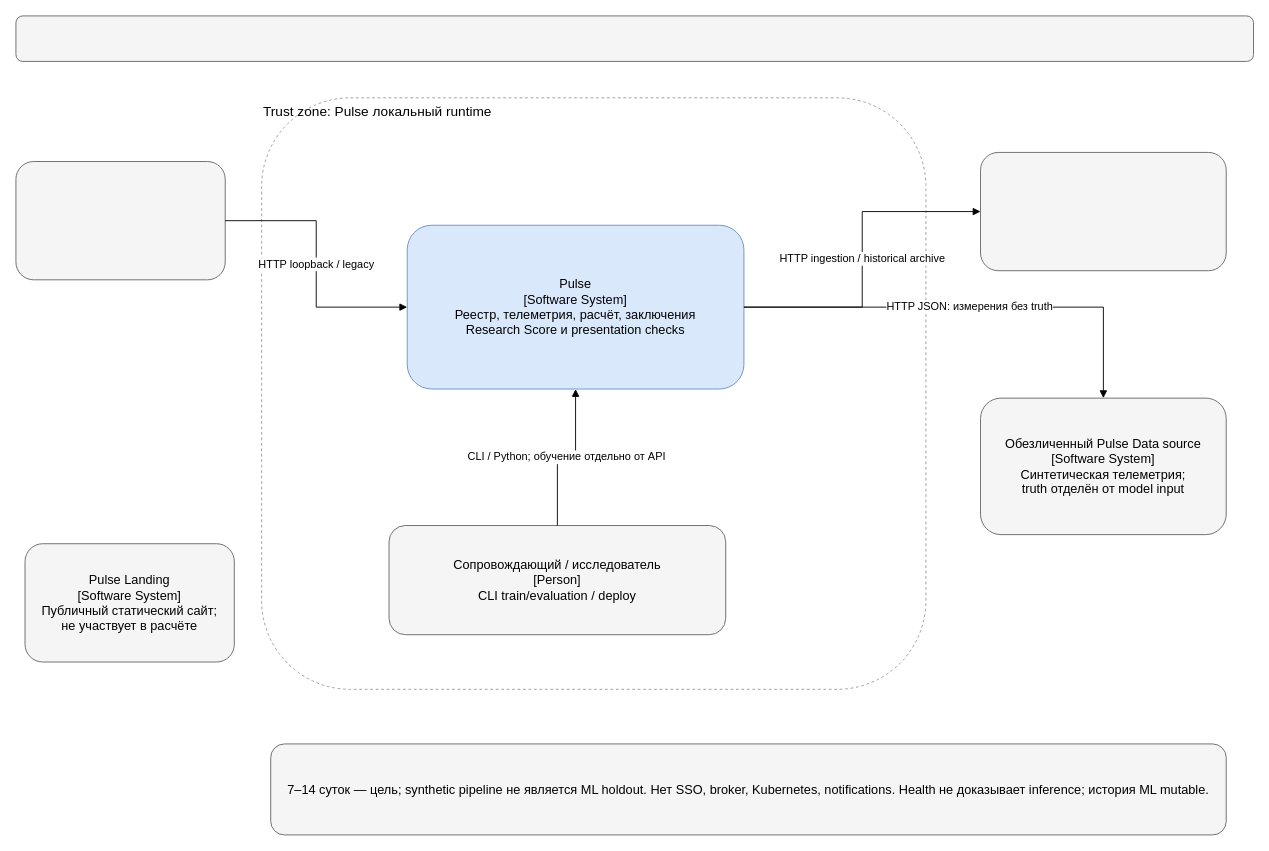
Image size: 1269x851. Some labels were removed from this diagram. Here are the shapes that lost their labels. From the top down, the centre of each, then its label:
At pixel 634 38: "C4 System Context — текущий код / Compose legacy".
At pixel 120 220: "Технолог / наблюдатель [Person] Общий legacy local admin".
At pixel 1103 211: "IRZ / ARMITS [External Software Systems] Архив телеметрии / суточный дебит".
